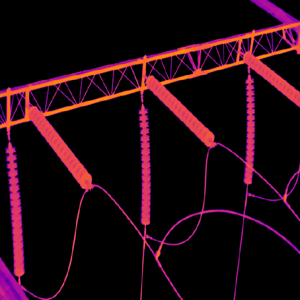insulator: (25, 103, 92, 190), (144, 74, 214, 148), (243, 47, 300, 108), (4, 140, 25, 277), (137, 100, 151, 225), (242, 73, 255, 184)
